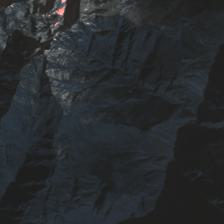landslides: (200, 39, 223, 53)
